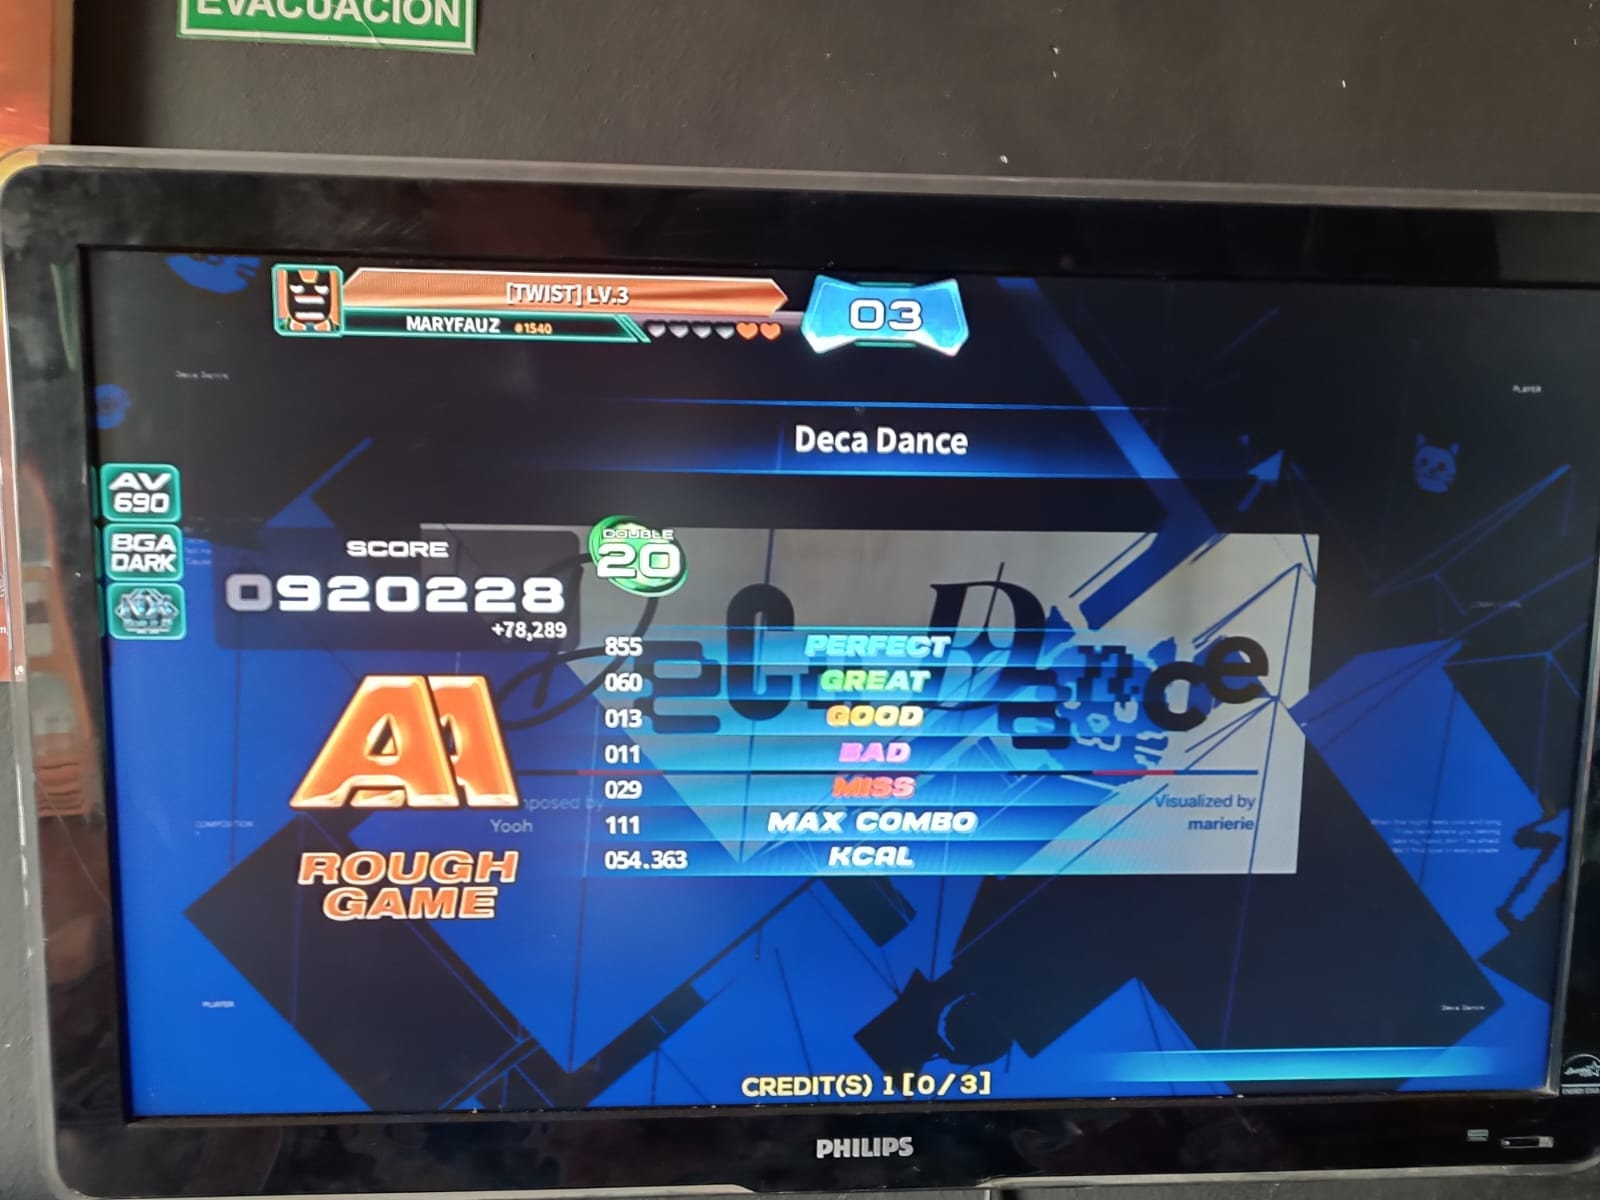difficulty: (586, 508, 685, 600)
fullscore: (20, 204, 1082, 1111)
rank: (285, 668, 548, 818)
score: (217, 527, 576, 634)
song_name: (651, 401, 1061, 476)
